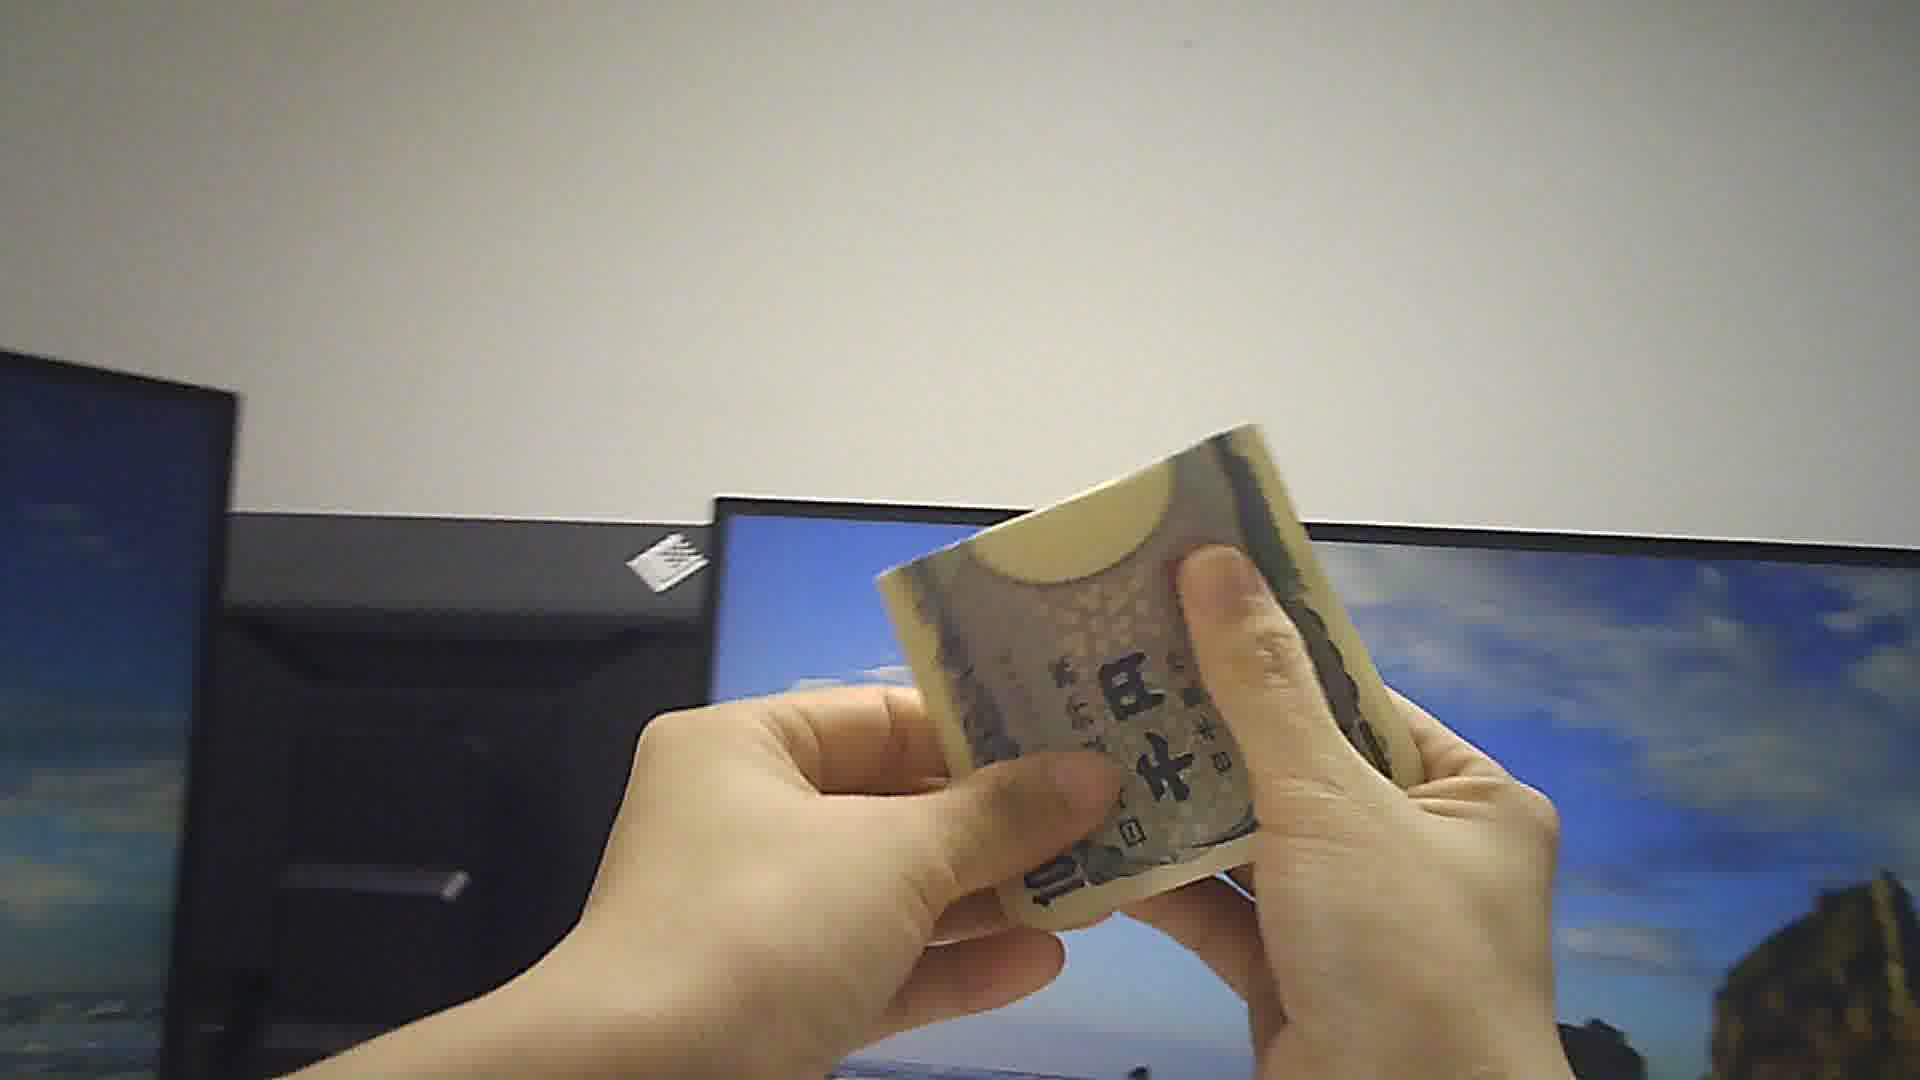1,000 Yen: (862, 402, 1437, 938)
